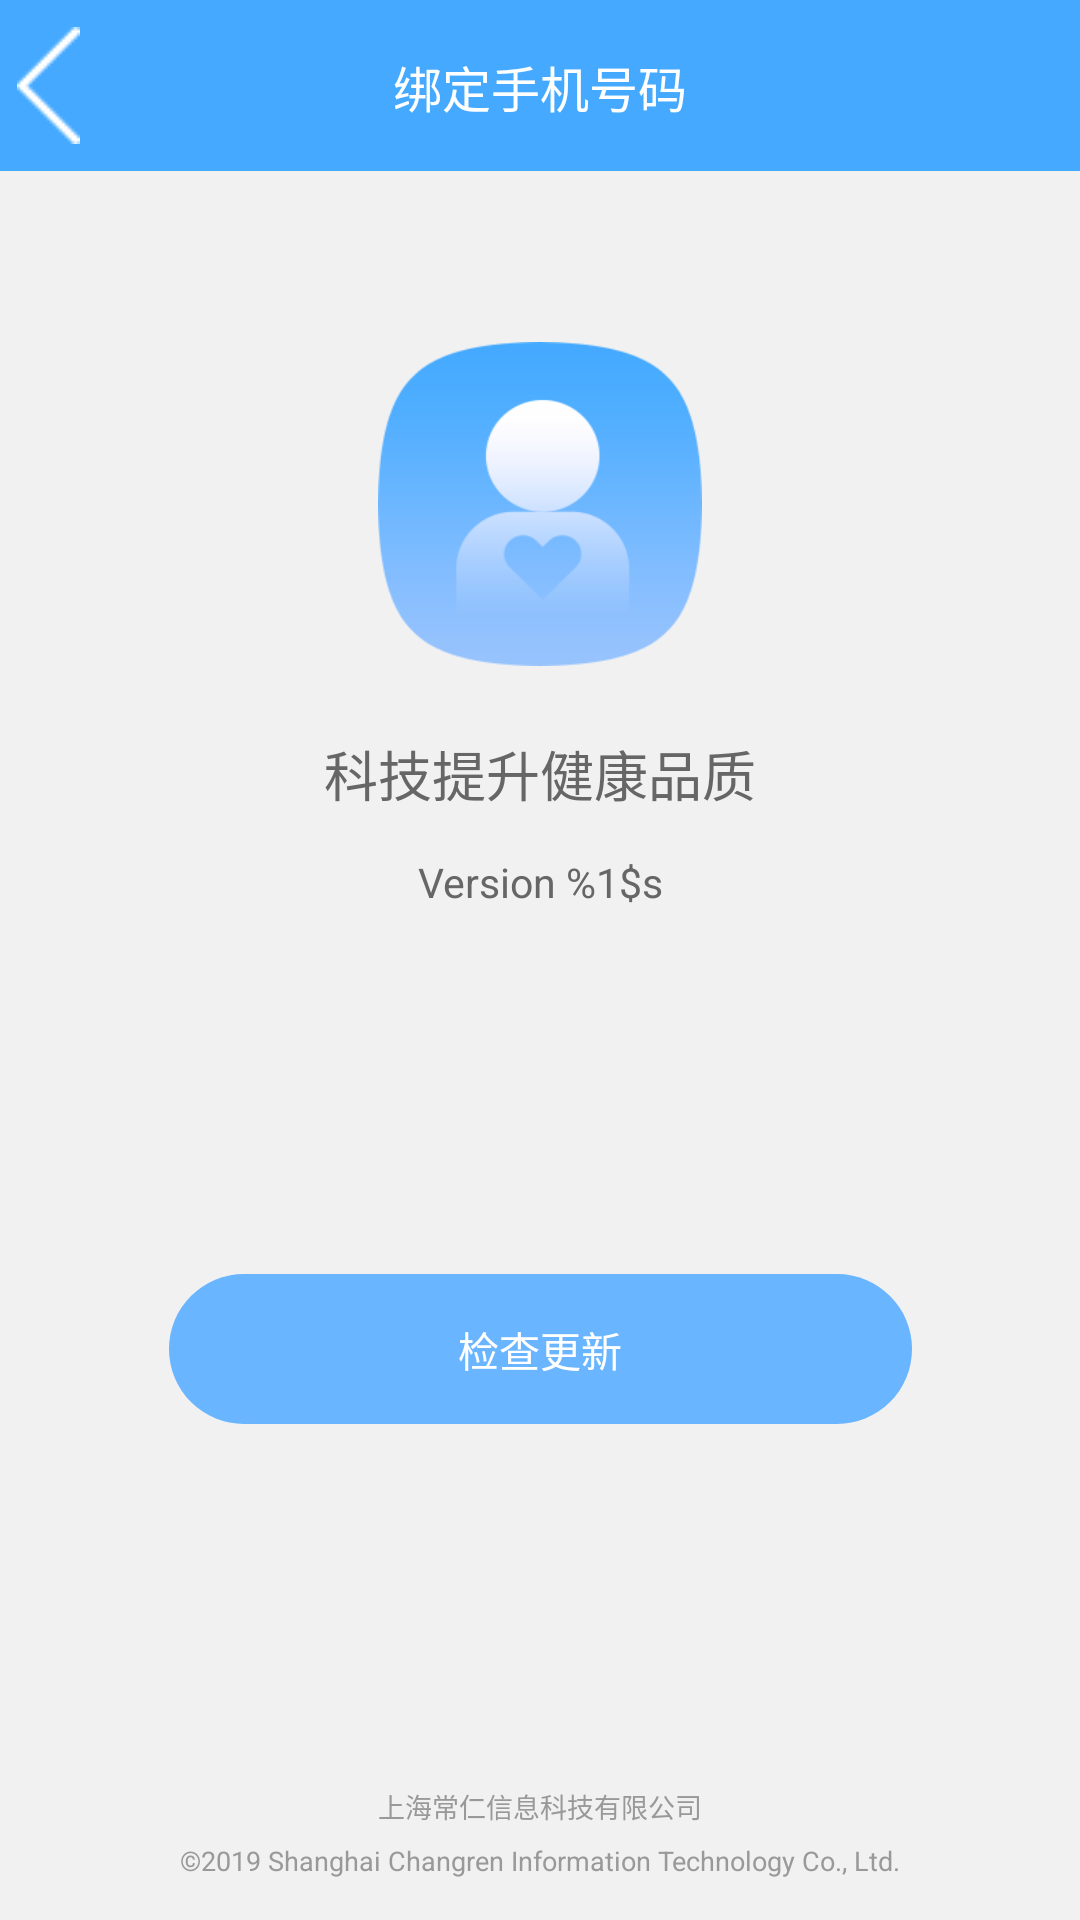

Named icons in this screenshot (1080 × 1920) and their centers, point (x, y):
back: point (48, 85)
